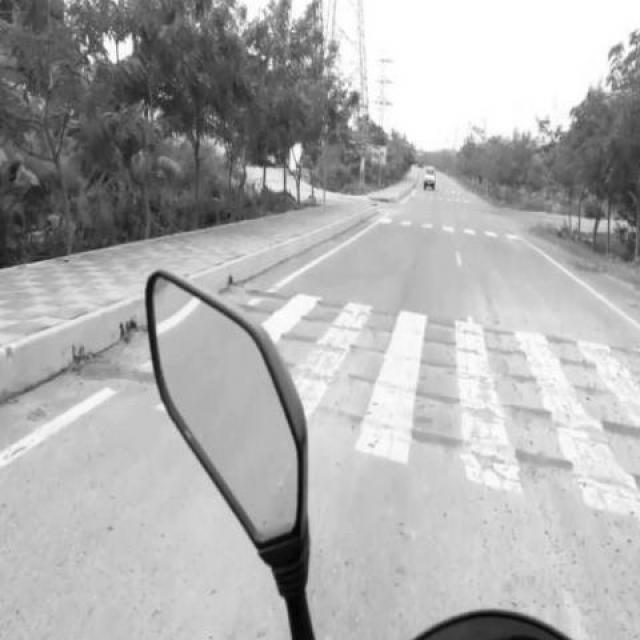Speed Bump: (308, 400, 640, 516), (297, 362, 639, 449), (296, 276, 639, 326), (298, 312, 638, 340), (300, 337, 639, 364)
